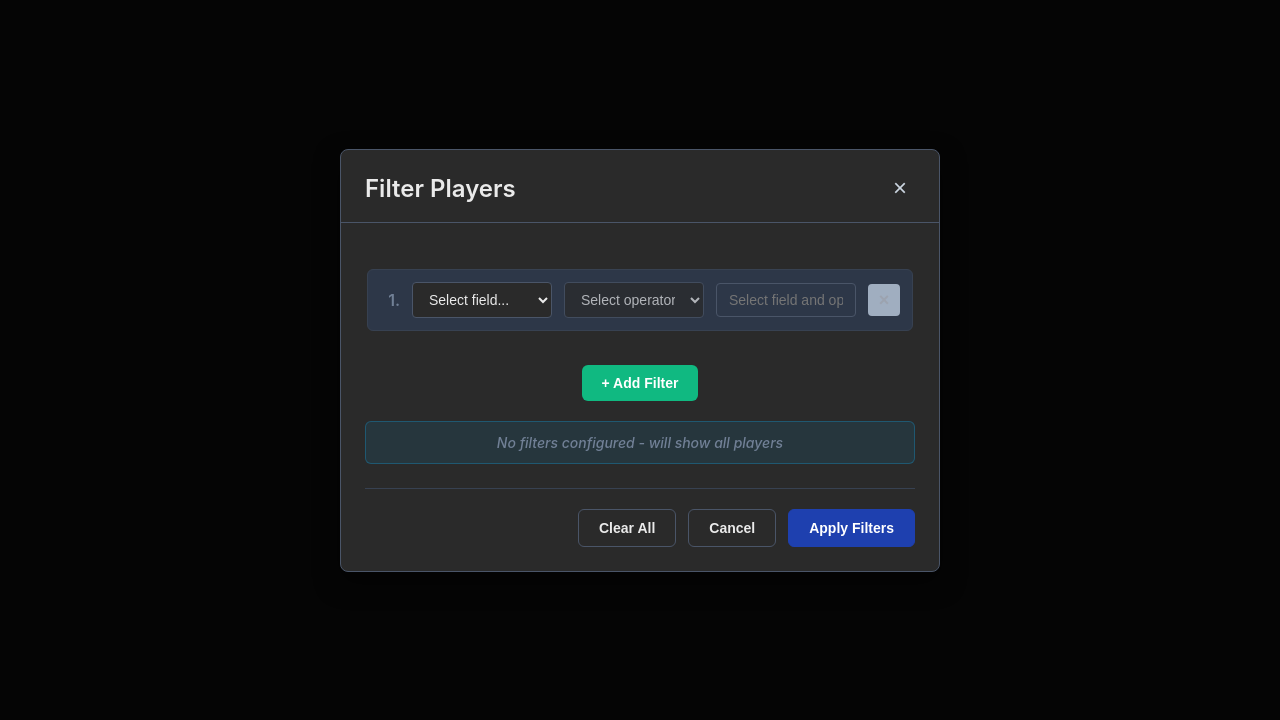
Scenario: FilterModal Component › Filter Row Management › should clear all filters when Clear All button is clicked
Add multiple filter rows and configure one
Click the button "+ Add Filter".
click(640, 382)  # box [582, 364, 698, 400]
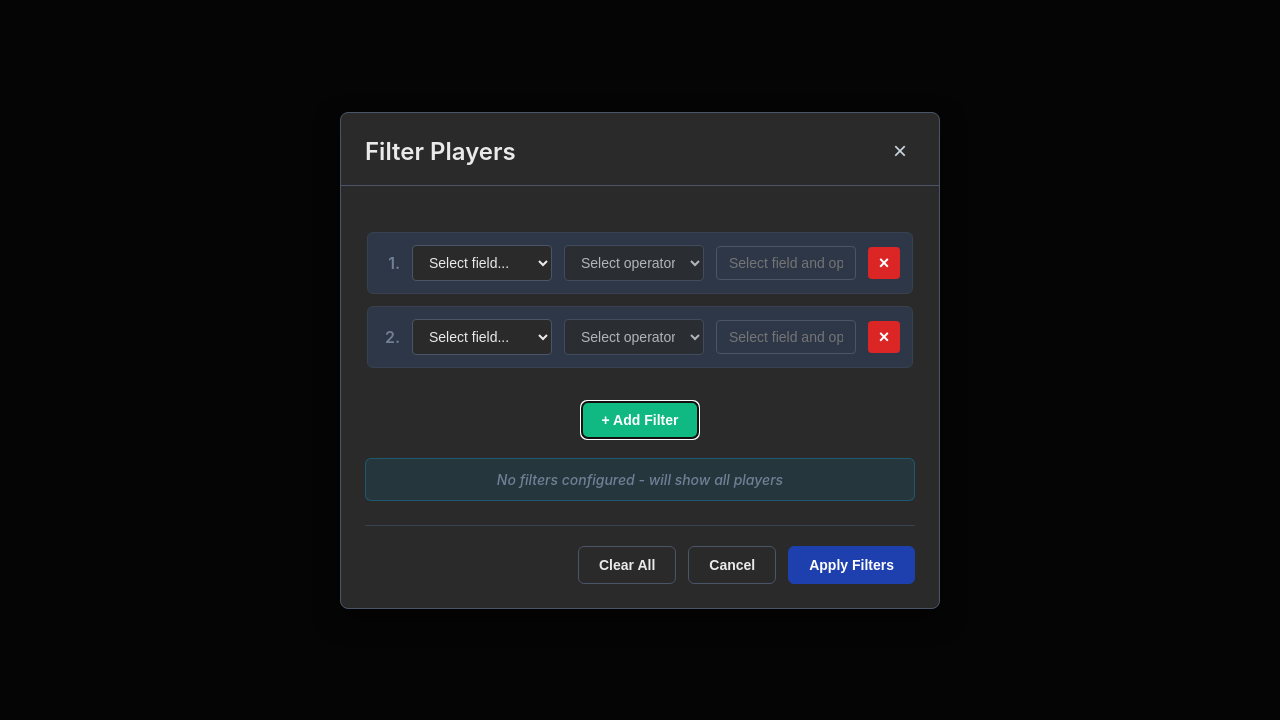
Select a field in the first row using proper selector
Select "Position" in the 1st dropdown at (482, 262), box [412, 244, 552, 280]
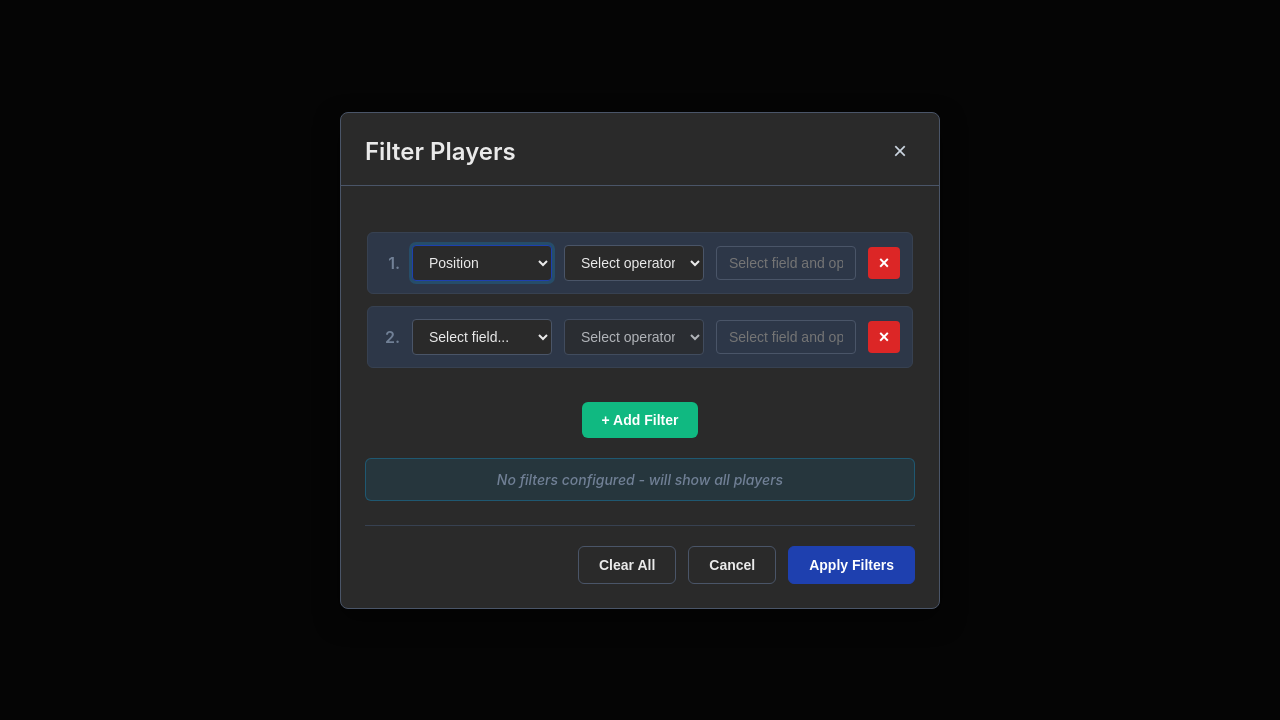
Clear all filters
Click the button "Clear All".
click(627, 564)  # box [578, 546, 676, 584]
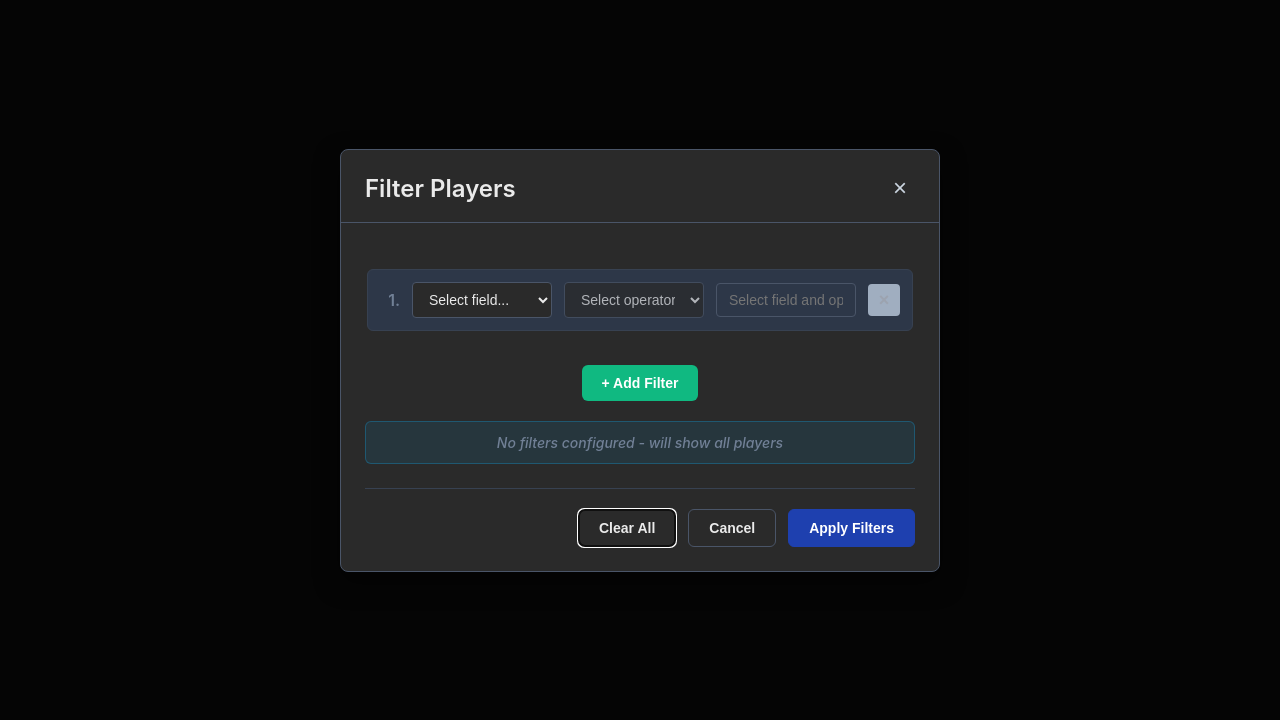
Expected: the text "1." is shown, [388, 290, 400, 310]
Expected: the text "2." is gone
